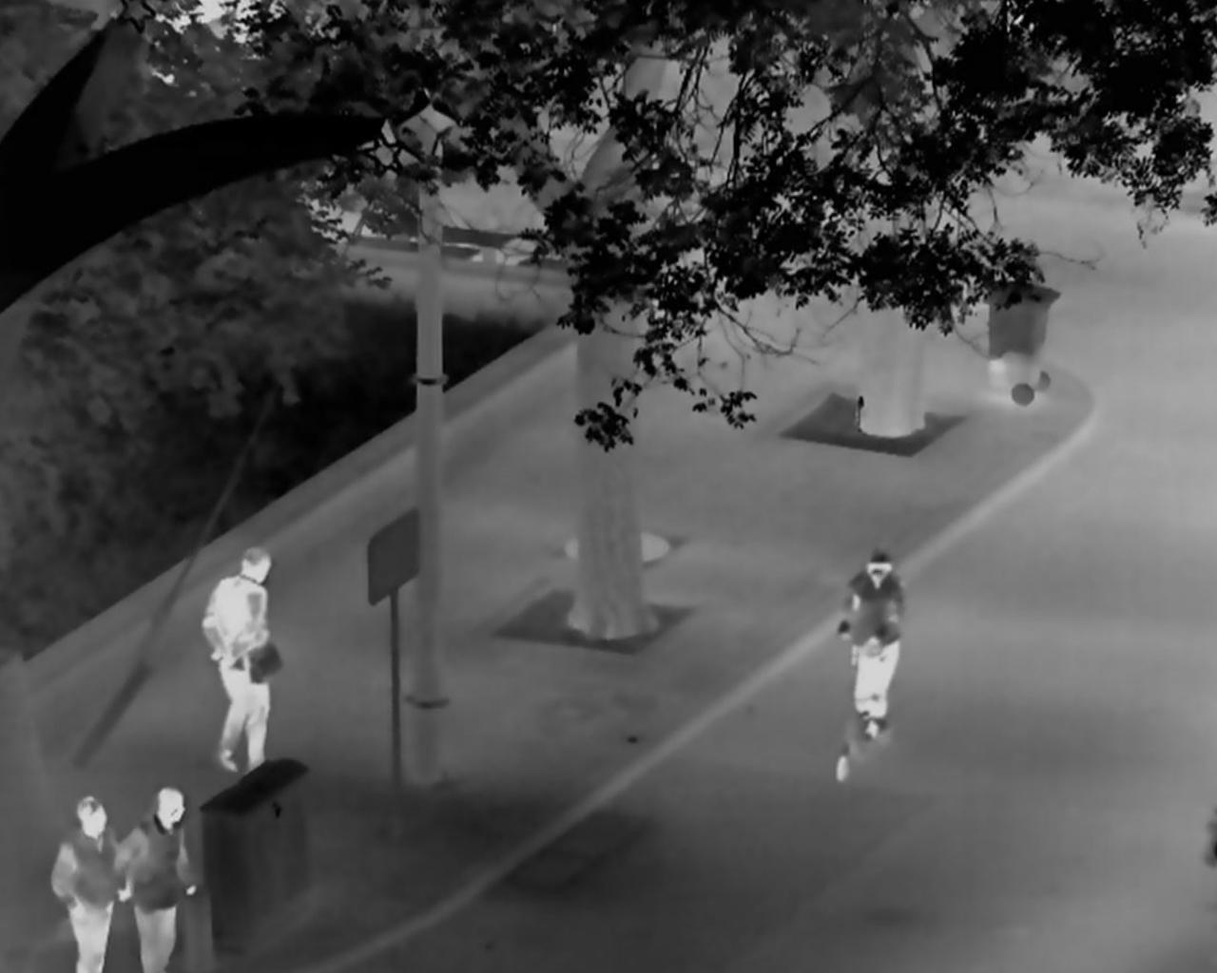person: (202, 545, 280, 775), (117, 787, 199, 973), (838, 548, 905, 739), (49, 794, 118, 973)
